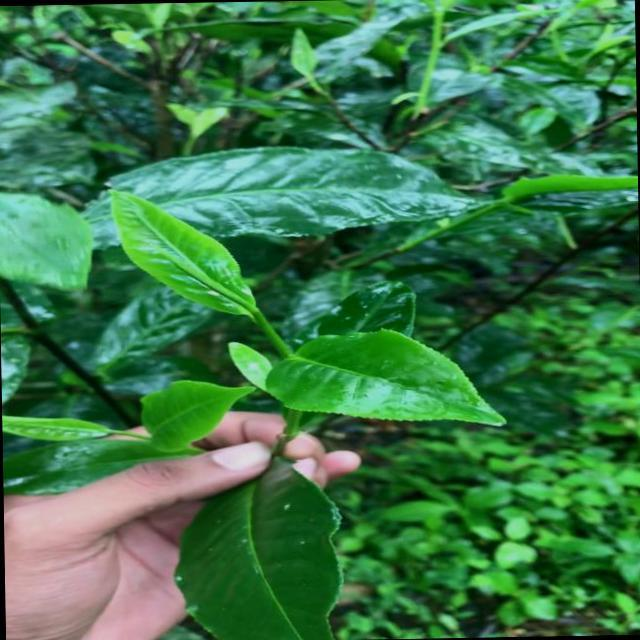Stem: (434, 39, 440, 49)
